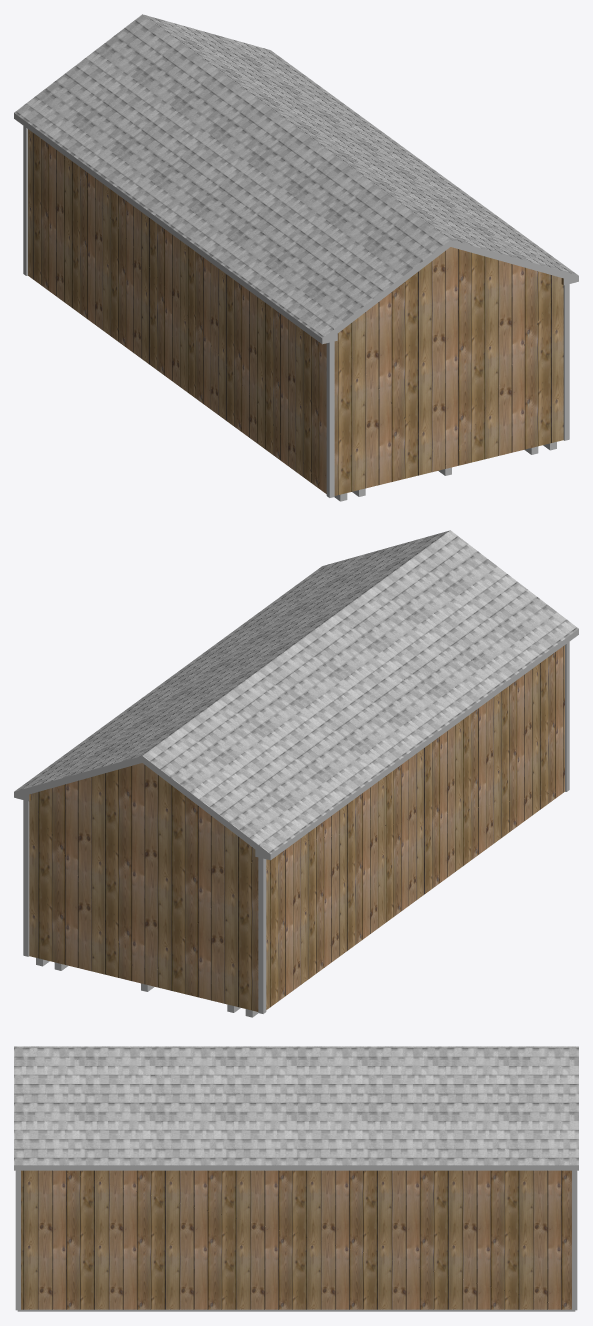
File: Single Garage A-frame_12x26.obj
3 views of the same model, one above another, from view 1: azimuth 30°, elevation 25°; view 2: azimuth 150°, elevation 25°; view 3: azimuth 270°, elevation 25° (orthographic). The views are drawn at different scales.
Visible parts, largest first — view 1: Shed, Roof, Sides, Trim; view 2: Shed, Roof, Sides, Trim; view 3: Shed, Roof, Sides, Trim, Floor.
Boxes of the visible parts, x1,y1,x2,y2 form: Shed: (28, 129, 563, 495); Roof: (14, 14, 578, 338); Sides: (14, 113, 578, 344); Trim: (23, 126, 569, 497); Shed: (29, 645, 564, 1011); Roof: (14, 530, 578, 854); Sides: (14, 629, 578, 860); Trim: (23, 642, 569, 1013); Shed: (21, 1170, 571, 1309); Roof: (14, 1046, 578, 1165); Sides: (14, 1165, 578, 1170); Trim: (15, 1170, 577, 1310); Floor: (17, 1309, 575, 1311).
Size of the model in its own units: 3.86 by 3.4 by 8.03.
